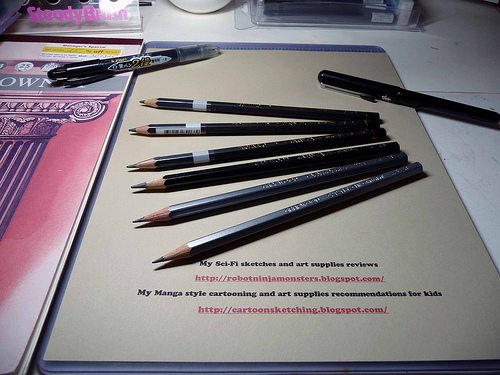pen_tip: (148, 239, 199, 272), (128, 205, 180, 237), (135, 171, 171, 202), (120, 157, 168, 179), (132, 92, 165, 114), (126, 122, 156, 146)
